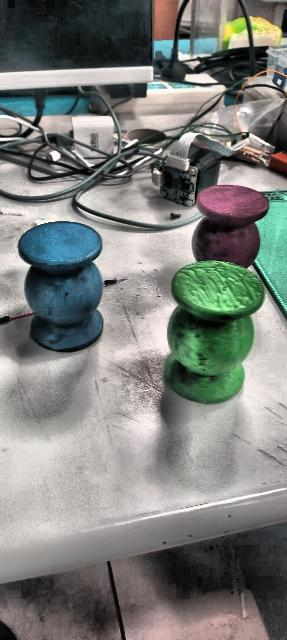blue: (18, 220, 104, 352)
green: (148, 258, 267, 407)
red: (191, 187, 275, 276)
